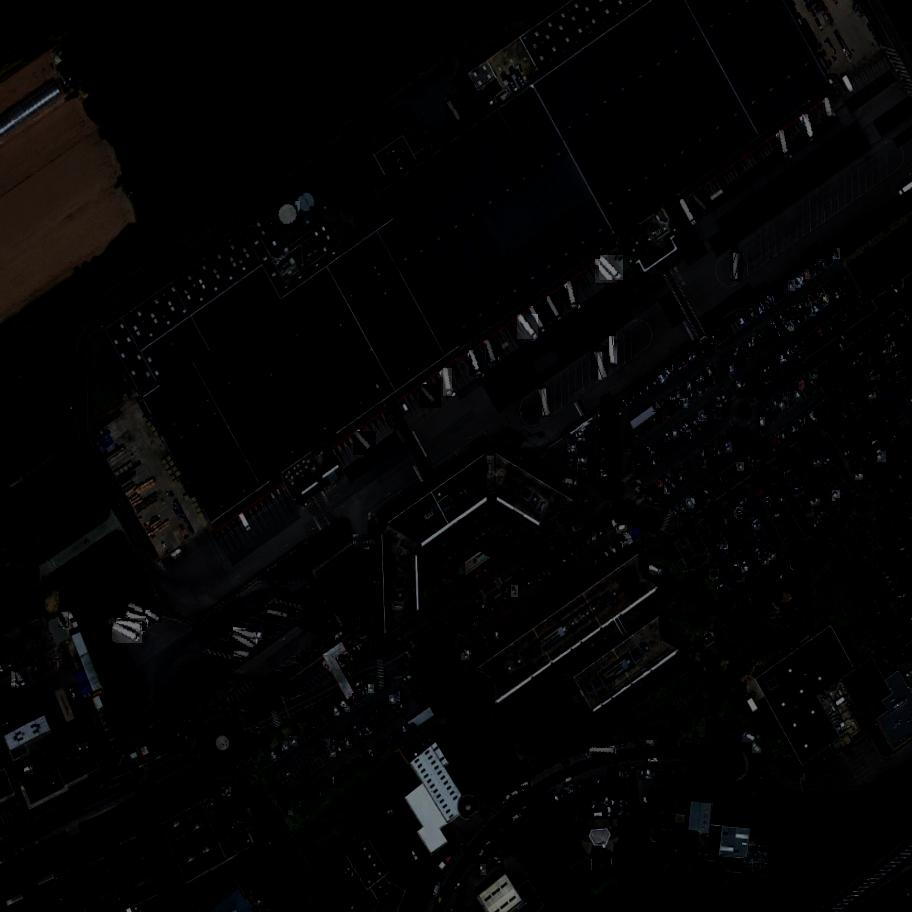large-vehicle: (127, 603, 161, 624), (112, 623, 142, 644), (600, 255, 625, 280), (592, 346, 609, 380), (595, 260, 619, 284), (517, 315, 539, 341), (229, 631, 257, 651), (353, 432, 376, 456), (680, 199, 699, 227), (419, 385, 442, 408), (445, 97, 465, 123), (530, 307, 549, 334), (547, 294, 565, 322), (690, 192, 711, 213), (538, 387, 552, 417), (802, 115, 816, 144), (125, 612, 152, 627), (731, 251, 744, 281), (233, 627, 264, 639), (267, 608, 297, 620), (115, 620, 147, 631), (469, 350, 482, 377), (567, 281, 579, 310), (779, 131, 791, 160), (232, 647, 254, 661), (486, 338, 498, 363), (659, 738, 680, 751), (609, 336, 618, 365), (443, 368, 452, 397), (14, 671, 28, 688), (69, 687, 82, 705), (585, 748, 614, 756), (825, 98, 835, 118), (561, 476, 579, 487), (31, 664, 42, 681), (532, 795, 549, 805), (650, 565, 664, 576), (592, 553, 601, 570), (610, 517, 621, 529), (616, 525, 628, 535), (618, 538, 627, 551), (599, 440, 612, 449), (567, 578, 578, 588), (610, 545, 620, 555), (603, 549, 613, 559), (552, 558, 562, 568), (553, 587, 563, 597), (614, 543, 623, 554), (597, 525, 605, 537), (511, 585, 519, 597), (450, 631, 459, 641), (465, 621, 474, 631), (542, 566, 550, 577), (579, 567, 587, 578), (478, 611, 486, 622), (470, 617, 478, 628), (527, 576, 536, 585), (556, 584, 565, 593), (576, 431, 586, 439), (12, 671, 17, 687), (577, 458, 588, 465), (485, 607, 492, 618), (474, 613, 481, 624), (579, 541, 587, 550), (577, 463, 587, 470), (569, 548, 576, 558), (600, 457, 611, 463), (598, 421, 609, 427), (536, 571, 544, 579), (568, 448, 577, 455), (525, 579, 532, 588), (600, 447, 611, 452), (567, 444, 576, 450), (601, 472, 609, 478), (600, 469, 609, 473), (592, 532, 596, 540), (599, 415, 607, 419), (568, 459, 575, 463), (600, 427, 607, 431), (603, 478, 608, 483), (587, 536, 590, 544), (570, 454, 576, 457), (601, 437, 609, 439), (578, 439, 585, 441)
small-vehicle: (742, 731, 757, 743), (58, 613, 69, 628), (752, 740, 764, 753), (512, 812, 525, 823), (434, 897, 445, 910), (23, 623, 34, 635), (494, 856, 506, 867), (522, 804, 534, 815), (362, 712, 373, 724), (320, 740, 332, 751), (823, 456, 834, 468), (732, 434, 742, 447), (714, 578, 725, 589), (773, 577, 784, 588), (879, 558, 890, 569), (803, 503, 814, 514), (345, 867, 356, 878), (782, 310, 793, 321), (877, 452, 888, 463), (843, 448, 854, 459), (838, 439, 849, 450), (812, 520, 822, 532), (811, 498, 823, 508), (787, 475, 797, 487), (275, 882, 287, 892), (434, 882, 442, 897), (511, 789, 523, 799), (564, 778, 576, 788), (460, 650, 470, 662), (398, 701, 408, 713), (300, 767, 310, 779), (805, 413, 815, 425), (670, 506, 680, 518), (740, 432, 750, 444), (679, 422, 689, 434), (621, 768, 630, 781), (874, 551, 885, 561), (874, 567, 884, 578), (783, 467, 794, 477), (792, 483, 802, 494), (804, 486, 815, 496), (738, 516, 749, 526), (702, 554, 712, 565), (250, 775, 260, 786), (341, 702, 351, 713), (14, 848, 25, 858), (493, 831, 503, 842), (504, 795, 514, 806), (351, 722, 362, 732), (317, 743, 327, 754), (896, 313, 907, 323), (828, 253, 839, 263), (756, 330, 766, 341), (722, 354, 732, 365), (737, 344, 747, 355), (867, 368, 877, 379), (863, 426, 873, 437), (884, 464, 894, 475), (852, 465, 863, 475), (747, 453, 757, 464), (685, 498, 695, 509), (703, 420, 713, 431), (693, 376, 704, 386), (698, 410, 708, 421), (704, 405, 715, 415), (708, 570, 720, 579), (282, 665, 294, 674), (404, 676, 416, 685), (412, 850, 421, 862), (853, 298, 862, 310), (842, 308, 851, 320), (780, 430, 789, 442), (839, 311, 848, 323), (828, 319, 837, 331), (726, 429, 735, 441), (689, 494, 698, 506), (744, 598, 754, 608), (745, 506, 755, 516), (859, 539, 869, 549), (862, 543, 872, 553), (734, 507, 744, 517), (727, 535, 737, 545), (334, 706, 344, 716), (486, 840, 496, 850), (469, 646, 479, 656), (465, 649, 475, 659), (393, 705, 403, 715), (381, 700, 391, 710), (315, 785, 325, 795), (831, 491, 841, 501), (900, 317, 910, 327), (818, 298, 828, 308), (793, 278, 803, 288), (729, 349, 739, 359), (854, 410, 864, 420), (809, 411, 819, 421), (757, 380, 767, 390), (669, 442, 679, 452), (640, 463, 650, 473), (723, 327, 733, 337), (872, 443, 882, 453), (796, 469, 806, 479), (562, 759, 573, 768), (822, 474, 833, 483), (888, 577, 899, 586), (895, 589, 906, 598), (897, 610, 908, 619), (813, 459, 824, 468), (799, 496, 810, 505), (805, 509, 816, 518), (301, 652, 312, 661), (289, 736, 298, 747), (24, 765, 35, 774), (364, 685, 373, 696), (504, 819, 515, 828), (455, 883, 466, 892), (349, 873, 358, 884), (555, 795, 566, 804), (364, 724, 373, 735), (412, 691, 423, 700), (330, 746, 339, 757), (789, 307, 798, 318), (815, 290, 824, 301), (812, 303, 821, 314), (767, 295, 776, 306), (757, 304, 766, 315), (734, 347, 743, 358), (847, 401, 858, 410), (861, 356, 872, 365), (770, 357, 779, 368), (823, 323, 832, 334), (783, 362, 792, 373), (749, 373, 758, 384), (669, 468, 678, 479), (663, 475, 672, 486), (652, 482, 661, 493), (710, 441, 719, 452), (692, 492, 701, 503), (691, 426, 700, 437), (625, 396, 634, 407), (658, 373, 667, 384), (695, 413, 704, 424), (647, 446, 656, 457), (645, 758, 659, 765), (643, 793, 651, 805), (779, 528, 791, 536), (520, 783, 532, 791), (805, 373, 813, 385), (714, 475, 722, 487), (577, 780, 584, 793), (737, 574, 746, 584), (887, 573, 897, 582), (772, 493, 782, 502), (764, 498, 774, 507), (766, 503, 776, 512), (863, 548, 873, 557), (785, 472, 795, 481), (816, 507, 825, 517), (818, 511, 828, 520), (886, 526, 896, 535), (882, 517, 891, 527), (740, 498, 750, 507), (711, 525, 720, 535), (718, 520, 728, 529), (717, 537, 726, 547), (720, 542, 730, 551), (762, 539, 771, 549), (759, 552, 768, 562), (260, 757, 269, 767), (223, 787, 233, 796), (354, 691, 364, 700), (351, 694, 361, 703), (5, 660, 14, 670), (355, 757, 364, 767), (524, 608, 533, 618), (356, 719, 365, 729), (809, 306, 818, 316), (796, 302, 805, 312), (778, 314, 787, 324), (779, 325, 788, 335), (767, 324, 776, 334), (891, 285, 900, 295), (797, 275, 806, 285), (764, 299, 774, 308), (795, 420, 804, 430), (808, 371, 818, 380), (836, 380, 846, 389), (893, 350, 903, 359), (888, 359, 898, 368), (894, 367, 903, 377), (769, 411, 778, 421), (761, 366, 770, 376), (762, 378, 771, 388), (648, 485, 657, 495), (652, 494, 662, 503), (667, 483, 676, 493), (649, 458, 658, 468), (630, 480, 639, 490), (865, 431, 874, 441), (870, 439, 880, 448), (722, 472, 732, 481), (743, 456, 752, 466), (736, 462, 745, 472), (652, 402, 661, 412), (708, 337, 717, 347), (680, 359, 689, 369), (695, 387, 704, 397), (687, 418, 696, 428), (662, 436, 671, 446), (669, 431, 678, 441), (709, 402, 718, 412), (716, 397, 725, 407), (720, 395, 729, 405), (644, 421, 653, 431), (728, 729, 739, 737), (887, 594, 898, 602), (771, 512, 782, 520), (724, 551, 735, 559), (607, 769, 615, 780), (294, 799, 302, 810), (312, 722, 320, 733), (20, 627, 28, 638), (480, 848, 488, 859), (396, 729, 404, 740), (363, 752, 371, 763), (349, 724, 357, 735), (308, 751, 316, 762), (787, 320, 795, 331), (807, 295, 815, 306), (823, 295, 831, 306), (833, 277, 841, 288), (808, 266, 816, 277), (675, 478, 683, 489), (651, 443, 659, 454), (713, 399, 721, 410), (655, 413, 663, 424), (644, 448, 652, 459), (630, 431, 638, 442), (722, 591, 731, 600), (666, 800, 675, 809), (762, 495, 771, 504), (863, 527, 872, 536), (715, 533, 724, 542), (729, 541, 738, 550), (250, 887, 259, 896), (202, 794, 211, 803), (304, 727, 313, 736), (385, 698, 394, 707), (388, 696, 397, 705), (875, 334, 884, 343), (764, 327, 773, 336), (837, 498, 846, 507), (809, 381, 818, 390), (892, 346, 901, 355), (864, 383, 873, 392), (887, 356, 896, 365), (767, 363, 776, 372), (797, 352, 806, 361), (801, 339, 810, 348), (737, 382, 746, 391), (659, 478, 668, 487), (660, 489, 669, 498), (673, 440, 682, 449), (655, 453, 664, 462), (887, 427, 896, 436), (893, 435, 902, 444), (696, 425, 705, 434), (687, 382, 696, 391), (621, 400, 630, 409), (651, 379, 660, 388), (665, 434, 674, 443), (683, 395, 692, 404), (717, 584, 727, 592), (786, 569, 794, 579), (898, 593, 908, 601), (795, 489, 805, 497), (897, 548, 907, 556), (690, 535, 700, 543), (280, 785, 288, 795), (297, 796, 305, 806), (206, 802, 216, 810), (272, 751, 280, 761), (345, 764, 353, 774), (334, 773, 342, 783), (346, 738, 354, 748), (800, 299, 808, 309), (793, 305, 801, 315), (903, 320, 911, 330), (833, 290, 841, 300), (815, 263, 823, 273), (772, 293, 780, 303), (814, 379, 822, 389), (846, 397, 856, 405), (841, 388, 851, 396), (878, 322, 888, 330), (870, 374, 880, 382), (783, 350, 791, 360), (798, 341, 806, 351), (860, 425, 870, 433), (874, 449, 884, 457), (725, 443, 733, 453), (730, 467, 738, 477), (702, 382, 710, 392), (719, 330, 727, 340), (637, 389, 645, 399), (673, 429, 681, 439), (677, 426, 685, 436), (663, 409, 671, 419), (658, 410, 666, 420), (610, 796, 617, 807), (595, 776, 602, 787), (287, 767, 294, 778), (276, 746, 283, 757), (295, 658, 306, 665), (493, 630, 500, 641), (376, 717, 383, 728), (334, 733, 341, 744), (789, 280, 796, 291), (834, 248, 841, 259), (743, 341, 750, 352), (754, 345, 761, 356), (747, 349, 754, 360), (783, 389, 790, 400), (799, 417, 806, 428), (807, 384, 814, 395), (795, 392, 802, 403), (644, 488, 651, 499), (686, 460, 693, 471), (665, 395, 672, 406), (673, 390, 680, 401), (750, 596, 758, 605), (736, 603, 744, 612), (862, 873, 871, 881), (727, 554, 735, 563), (733, 566, 742, 574), (719, 525, 728, 533), (732, 545, 741, 553), (742, 519, 750, 528), (744, 524, 753, 532), (752, 520, 761, 528), (769, 553, 777, 562), (762, 558, 771, 566), (338, 704, 346, 713), (359, 690, 368, 698), (485, 636, 491, 648), (419, 698, 428, 706), (316, 745, 322, 757), (338, 743, 346, 752), (349, 736, 357, 745), (779, 287, 787, 296), (775, 291, 784, 299), (883, 330, 892, 338), (889, 341, 897, 350), (901, 363, 910, 371), (789, 346, 797, 355), (756, 368, 764, 377), (657, 492, 665, 501), (682, 472, 690, 481), (678, 465, 686, 474), (660, 450, 668, 459), (639, 465, 645, 477), (629, 393, 637, 402), (665, 368, 673, 377), (647, 382, 655, 391), (658, 439, 666, 448), (636, 453, 644, 462), (625, 806, 632, 816), (853, 532, 863, 539), (316, 718, 323, 728), (280, 744, 287, 754), (283, 741, 290, 751), (481, 865, 488, 875), (371, 709, 378, 719), (327, 777, 334, 787), (335, 744, 342, 754), (798, 313, 805, 323), (776, 329, 783, 339), (773, 331, 780, 341), (819, 260, 826, 270), (804, 269, 811, 279), (783, 284, 790, 294), (727, 352, 734, 362), (773, 435, 780, 445), (792, 424, 799, 434), (814, 408, 821, 418), (865, 366, 875, 373), (868, 392, 878, 399), (780, 354, 787, 364), (805, 335, 812, 345), (753, 371, 760, 381), (760, 417, 767, 427), (751, 384, 758, 394), (746, 376, 753, 386), (657, 480, 664, 490), (708, 455, 715, 465), (667, 444, 674, 454), (889, 433, 899, 440), (868, 437, 878, 444), (702, 487, 709, 497), (698, 490, 705, 500), (661, 398, 668, 408), (669, 393, 676, 403), (684, 382, 691, 392), (692, 350, 699, 360), (692, 388, 699, 398), (692, 416, 699, 426), (682, 398, 689, 408), (648, 418, 655, 428), (591, 800, 597, 811), (646, 768, 652, 779), (394, 691, 400, 702), (805, 297, 811, 308), (812, 293, 818, 304), (825, 255, 831, 266), (751, 347, 757, 358), (739, 315, 745, 326), (635, 430, 641, 441), (856, 343, 864, 351), (735, 571, 743, 579), (722, 529, 730, 537), (306, 647, 314, 655), (330, 776, 338, 784), (886, 287, 894, 295), (760, 303, 768, 311), (775, 396, 783, 404), (712, 576, 721, 583), (718, 589, 727, 596), (609, 764, 618, 771), (745, 570, 754, 577), (869, 540, 878, 547), (724, 545, 731, 554), (731, 564, 740, 571), (750, 538, 759, 545), (756, 545, 763, 554), (276, 778, 283, 787), (247, 884, 256, 891), (327, 712, 334, 721), (368, 685, 375, 694), (375, 707, 382, 716), (338, 771, 345, 780), (346, 727, 353, 736), (768, 334, 775, 343), (765, 337, 772, 346), (758, 343, 765, 352), (777, 434, 784, 443), (772, 370, 779, 379), (712, 452, 719, 461), (722, 444, 729, 453), (855, 475, 864, 482), (726, 469, 733, 478), (658, 400, 665, 409), (712, 334, 719, 343), (687, 353, 694, 362), (662, 370, 669, 379), (688, 391, 695, 400), (780, 574, 786, 584), (402, 726, 408, 736), (573, 783, 579, 793), (536, 597, 542, 607), (342, 767, 348, 777), (358, 730, 364, 740), (772, 321, 778, 331), (750, 309, 756, 319), (740, 356, 746, 366), (736, 359, 742, 369), (732, 360, 738, 370), (778, 405, 784, 415), (665, 485, 671, 495), (653, 455, 659, 465), (704, 446, 710, 456), (680, 503, 686, 513), (677, 388, 683, 398), (684, 354, 690, 364), (679, 400, 685, 410), (736, 553, 744, 560), (738, 556, 746, 563), (257, 899, 265, 906), (312, 642, 319, 650), (78, 745, 85, 753), (387, 809, 395, 816), (382, 712, 389, 720), (410, 681, 418, 688), (859, 352, 867, 359), (817, 329, 824, 337), (820, 325, 827, 333), (779, 402, 786, 410), (705, 368, 712, 376), (709, 377, 717, 384), (715, 412, 722, 420), (606, 796, 611, 807), (481, 639, 486, 650), (730, 363, 735, 374), (646, 459, 651, 470), (878, 516, 887, 522), (347, 699, 353, 708), (592, 778, 598, 787), (372, 719, 378, 728), (791, 318, 797, 327), (899, 280, 905, 289), (896, 282, 902, 291), (831, 280, 837, 289), (820, 288, 826, 297), (761, 330, 767, 339), (849, 305, 855, 314), (754, 306, 760, 315), (744, 354, 750, 363), (791, 384, 797, 393), (776, 357, 782, 366), (795, 343, 801, 352), (766, 414, 772, 423), (755, 382, 761, 391), (742, 380, 748, 389), (700, 449, 706, 458), (664, 448, 670, 457), (683, 500, 689, 509), (705, 484, 711, 493), (708, 416, 714, 425), (702, 371, 708, 380), (707, 379, 713, 388), (652, 416, 658, 425), (674, 401, 680, 410), (671, 405, 677, 414), (607, 807, 612, 817), (288, 805, 293, 815), (350, 696, 355, 706), (747, 339, 752, 349), (681, 386, 686, 396), (693, 378, 698, 388), (700, 373, 705, 383), (657, 441, 662, 451), (713, 531, 721, 537), (749, 517, 757, 523), (754, 525, 762, 531), (765, 545, 773, 551), (474, 644, 480, 652), (805, 308, 811, 316), (784, 324, 790, 332), (799, 381, 805, 389), (885, 335, 893, 341), (882, 349, 890, 355), (765, 365, 771, 373), (787, 349, 793, 357), (791, 357, 797, 365), (743, 314, 749, 322), (884, 420, 892, 426), (669, 365, 675, 373), (645, 384, 651, 392), (641, 451, 647, 459), (620, 798, 625, 807), (5, 856, 14, 861), (369, 750, 374, 759), (362, 727, 367, 736), (332, 737, 337, 746), (796, 316, 801, 325), (762, 340, 767, 349), (679, 474, 684, 483), (690, 430, 695, 439), (860, 295, 864, 306), (790, 566, 796, 573), (758, 533, 765, 539), (283, 808, 289, 815), (902, 367, 909, 373), (719, 447, 725, 454), (618, 770, 622, 780), (291, 802, 295, 812), (225, 792, 233, 797), (384, 740, 389, 748), (478, 640, 483, 648), (829, 284, 834, 292), (824, 285, 829, 293), (796, 354, 800, 364), (766, 403, 771, 411), (708, 482, 712, 492), (674, 364, 679, 372), (686, 421, 690, 431), (743, 567, 749, 573), (753, 542, 759, 548), (588, 779, 592, 788), (339, 731, 343, 740), (773, 398, 777, 407), (672, 480, 676, 489), (719, 435, 723, 444), (612, 807, 617, 814), (733, 505, 740, 510), (737, 513, 744, 518), (741, 562, 748, 567), (296, 774, 301, 781), (766, 375, 771, 382), (85, 743, 89, 751), (781, 366, 785, 374), (903, 460, 911, 464), (720, 476, 724, 484), (701, 384, 705, 392), (639, 427, 643, 435), (642, 769, 645, 779), (694, 540, 700, 545), (206, 799, 212, 804), (804, 311, 807, 321), (789, 387, 792, 397), (668, 407, 671, 417), (742, 601, 746, 608), (729, 559, 736, 563), (839, 288, 843, 295), (785, 401, 789, 408), (718, 451, 722, 458), (702, 461, 706, 468), (622, 808, 625, 817), (600, 799, 603, 808), (19, 651, 22, 660), (813, 264, 816, 273), (747, 312, 750, 321), (636, 468, 639, 477), (656, 376, 659, 385), (636, 743, 642, 747), (736, 550, 742, 554), (748, 534, 754, 538), (802, 274, 805, 282), (687, 433, 690, 441), (643, 425, 646, 433), (570, 786, 572, 797), (647, 741, 654, 744), (583, 780, 586, 787), (306, 794, 309, 801), (634, 392, 637, 399), (625, 796, 627, 805), (619, 744, 625, 747), (752, 337, 754, 346), (899, 446, 905, 449), (641, 387, 644, 393), (635, 459, 637, 467), (700, 465, 702, 470)
storage-tank: (278, 201, 303, 228), (295, 189, 318, 215)
